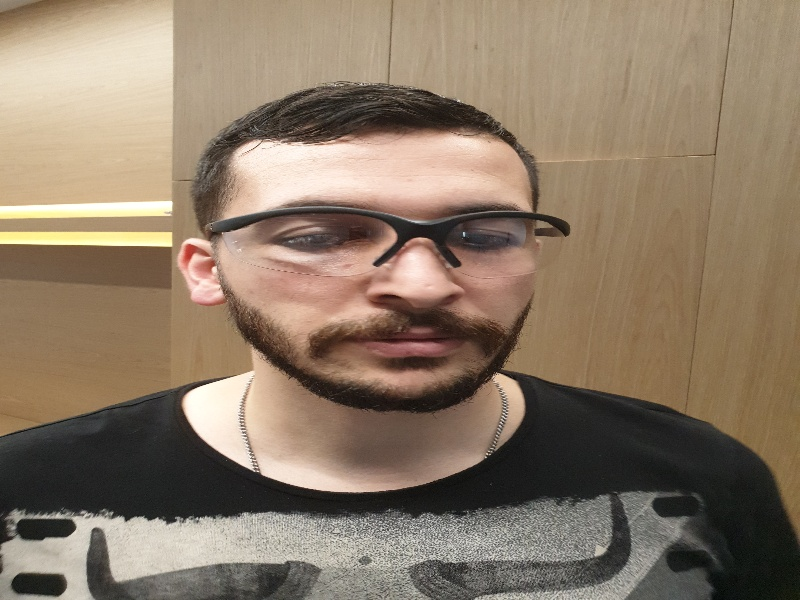Gozluk: (199, 206, 575, 282)
